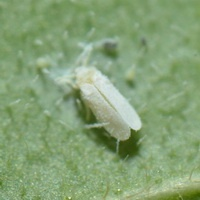insect: (64, 43, 141, 151)
